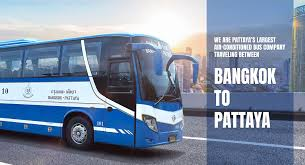bus: (1, 31, 199, 149)
